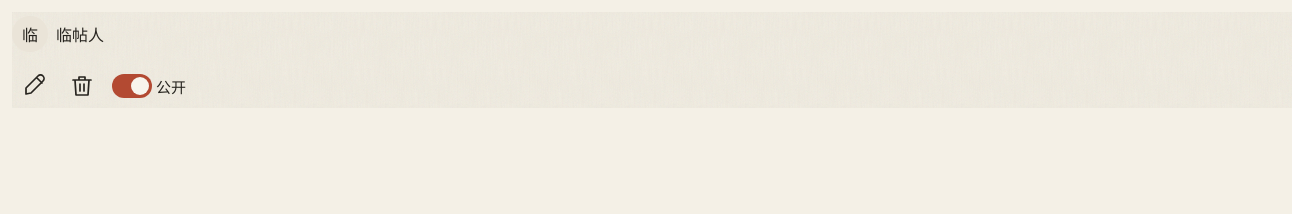
Test: Work detail actions for the author › switches to self-only in place and keeps edit and trash before the switch
This screenshot has width=1292, height=214.
Click the switch labelled "公开": (149, 86) top-left (108, 64), bottom-right (190, 108)
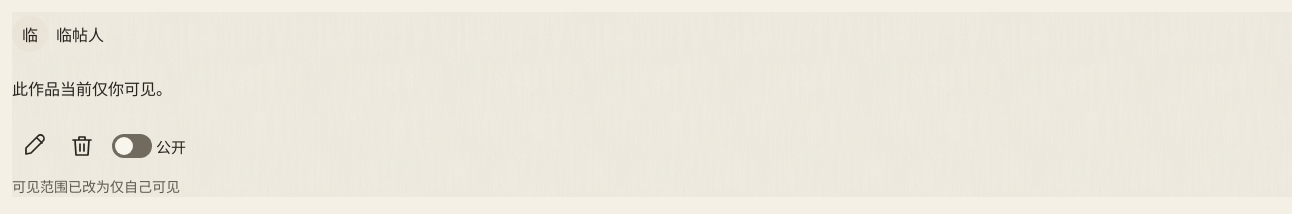
Now the message "可见范围已改为仅自己可见" is shown, box top-left (12, 178), bottom-right (180, 195)
